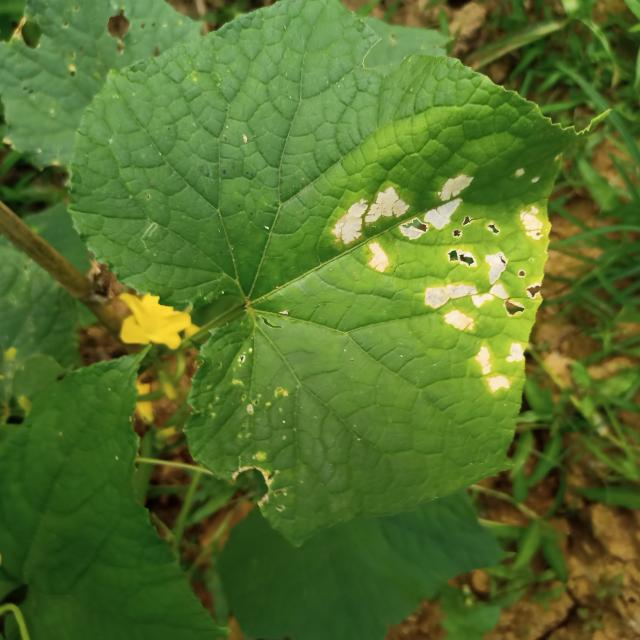disease_cucumber: (331, 142, 548, 405)
